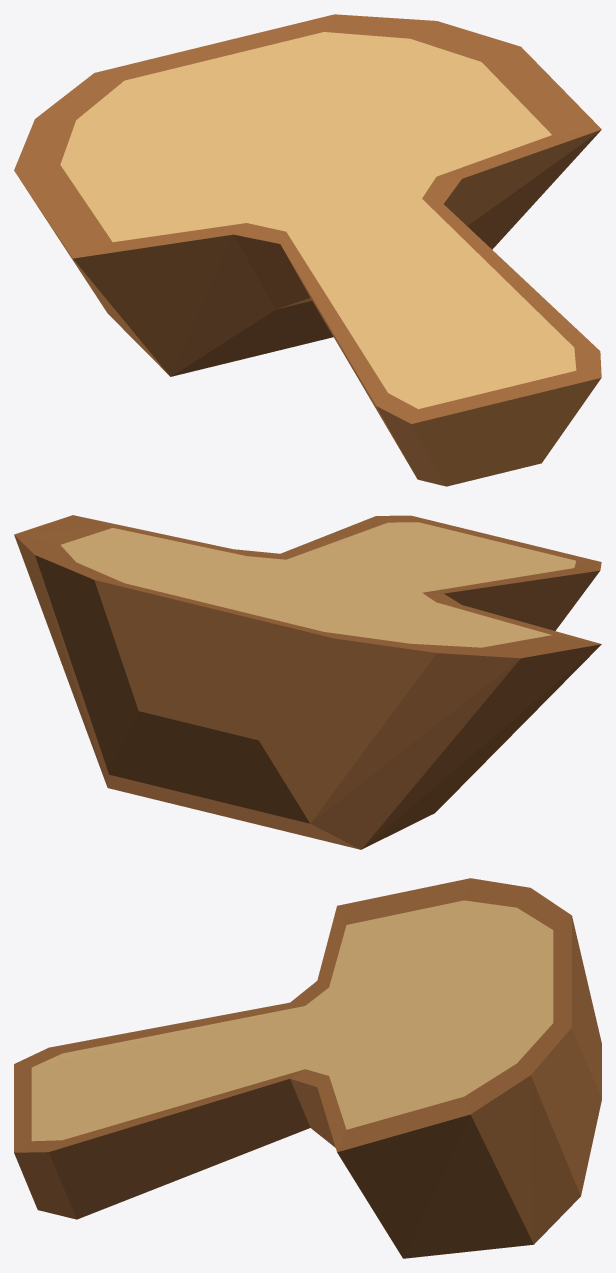
The model's file is Mushroom_Sliced.obj.
The picture shows the model from 3 angles, top to bottom: view 1: azimuth 30°, elevation 25°; view 2: azimuth 150°, elevation 25°; view 3: azimuth 270°, elevation 25°; orthographic projection. The views are drawn at different scales.
Parts seen in each view (by area): view 1: Mushroom_Sliced_Beige, Mushroom_Sliced_LightBrown; view 2: Mushroom_Sliced_LightBrown, Mushroom_Sliced_Beige; view 3: Mushroom_Sliced_LightBrown, Mushroom_Sliced_Beige.
Boxes of the visible parts, box(x1,y1,x2,y2) form: Mushroom_Sliced_Beige: box(60, 32, 576, 409); Mushroom_Sliced_LightBrown: box(14, 14, 601, 486); Mushroom_Sliced_LightBrown: box(14, 515, 601, 849); Mushroom_Sliced_Beige: box(61, 522, 575, 647); Mushroom_Sliced_LightBrown: box(14, 878, 601, 1258); Mushroom_Sliced_Beige: box(31, 900, 553, 1141).
Size of the model in its own units: 0.4135 by 0.1765 by 0.4166.
